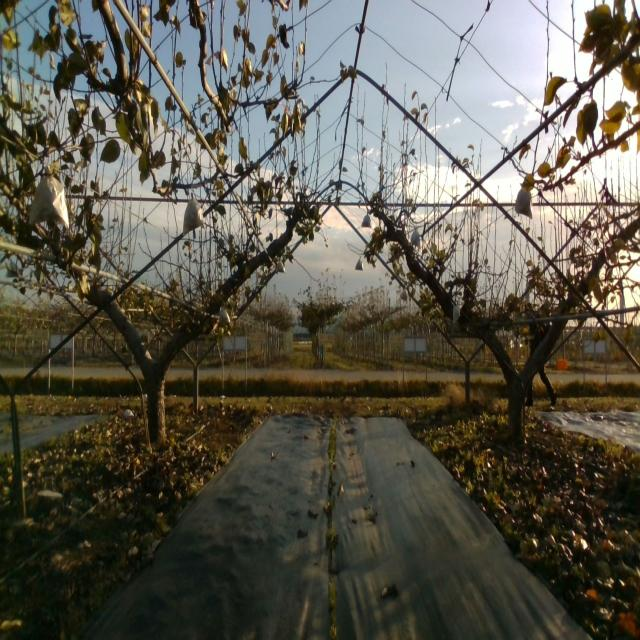pearbags: (28, 162, 70, 228), (182, 196, 204, 235), (514, 187, 533, 220), (217, 307, 232, 326), (410, 228, 420, 249), (361, 210, 372, 229)
